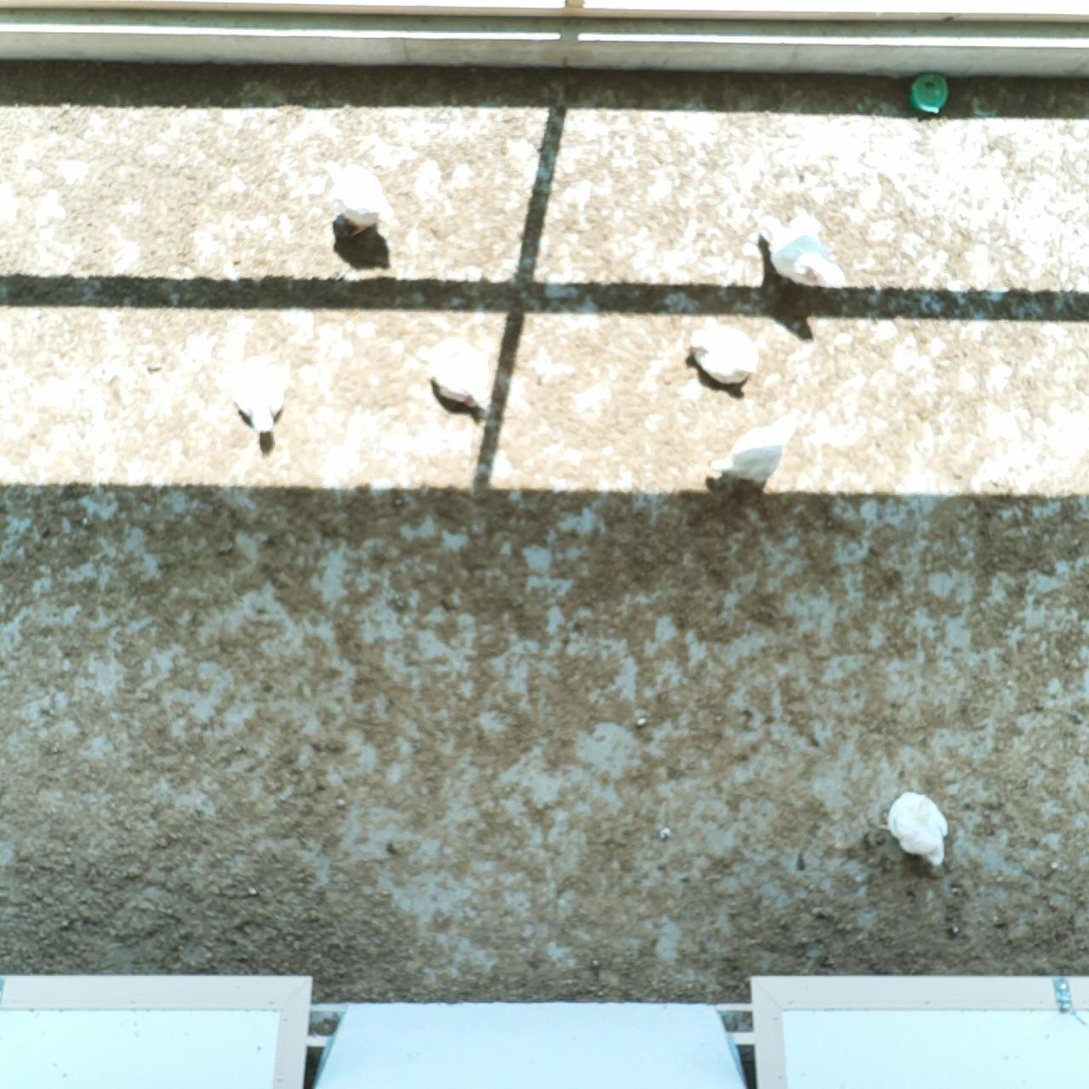chicken: (752, 201, 852, 295), (706, 411, 802, 487), (321, 151, 402, 239), (683, 307, 763, 395), (220, 346, 293, 441), (872, 787, 951, 874), (419, 329, 495, 417)
